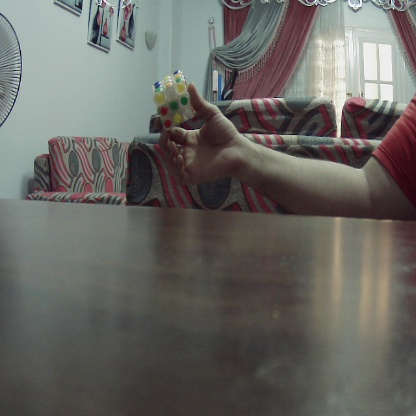Rubix Cube: (152, 72, 196, 130)
